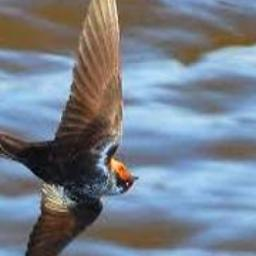Swallow: (0, 0, 139, 256)
